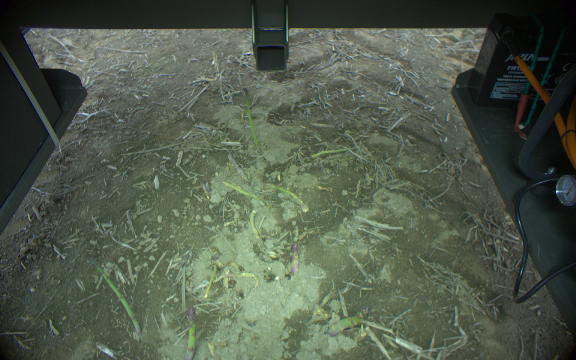aspa: (85, 257, 143, 336), (330, 302, 375, 343), (239, 85, 262, 157), (268, 182, 307, 213), (182, 305, 202, 360), (222, 179, 264, 201), (248, 208, 265, 248), (312, 144, 357, 159), (290, 234, 303, 279)
